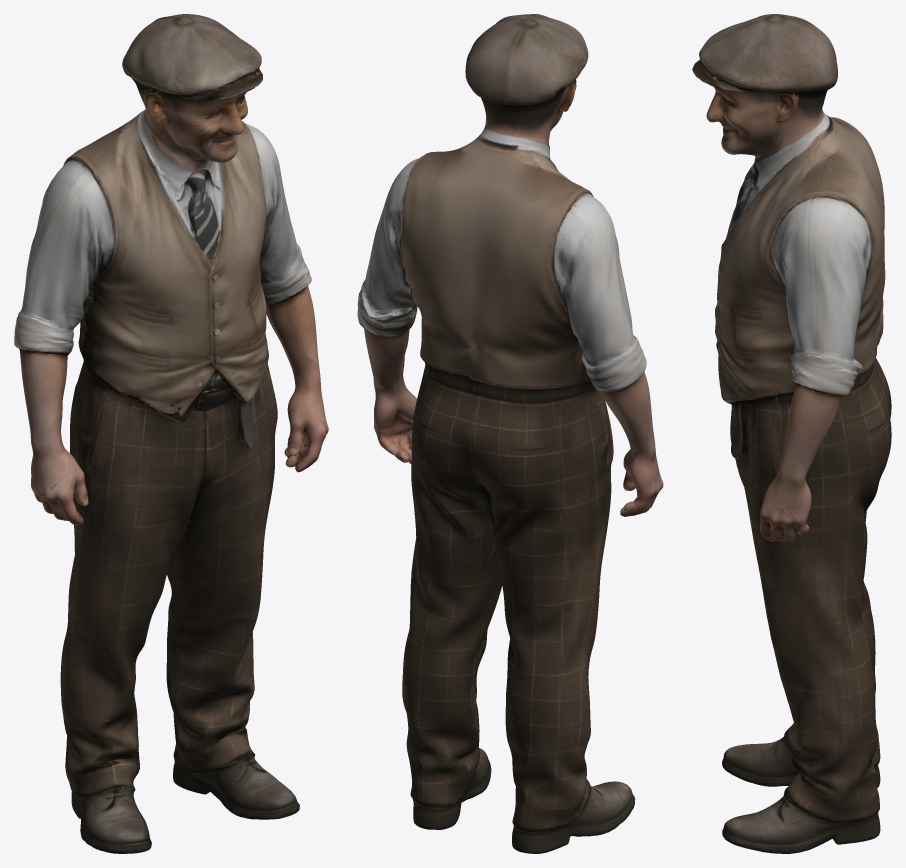
The model's file is Basil2.glb.
The picture shows the model from 3 angles, left to right: view 1: azimuth 30°, elevation 25°; view 2: azimuth 150°, elevation 25°; view 3: azimuth 270°, elevation 25°; orthographic projection. The views are drawn at different scales.
Visible parts, largest first — view 1: output; view 2: output; view 3: output.
Part boxes in pixels (x1,y1,x2,y2): output: (14, 14, 328, 853); output: (357, 14, 663, 853); output: (692, 14, 891, 853).
Size of the model in its own units: 0.7121 by 1.91 by 0.4349.
1 material, 1 textured.
